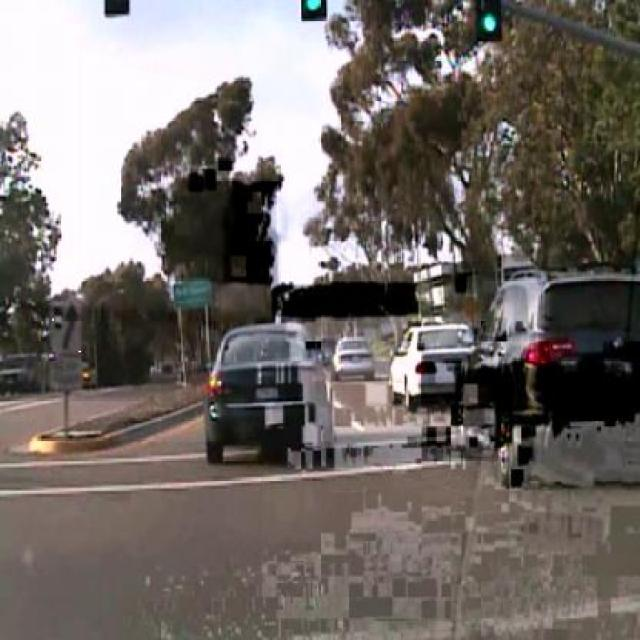keepRight: (49, 296, 83, 356)
